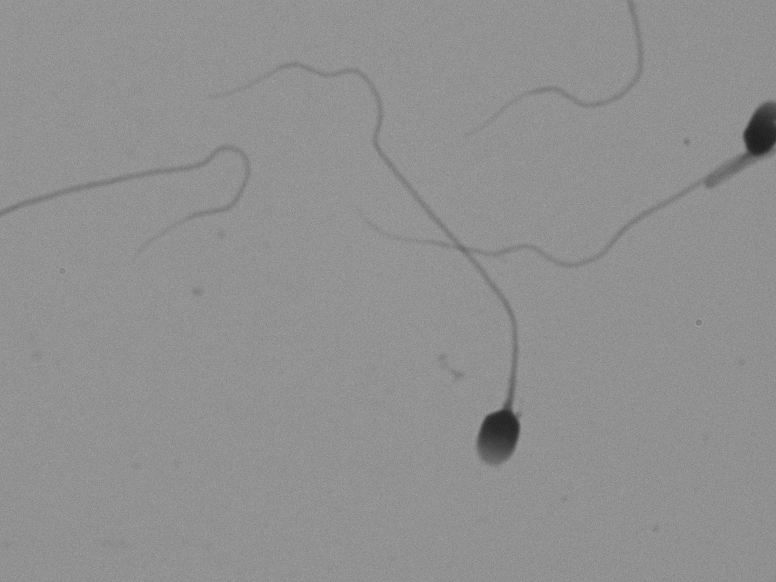Normal: (190, 36, 549, 503)
